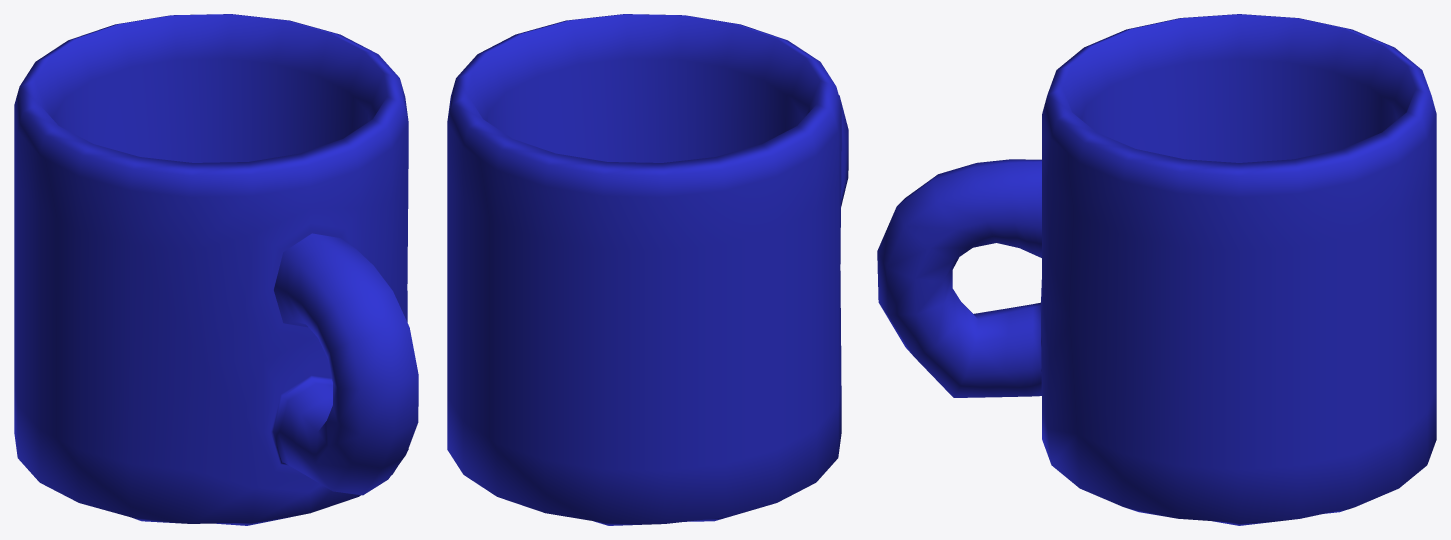
File: mug.obj
The picture shows the model from 3 angles, left to right: view 1: azimuth 30°, elevation 25°; view 2: azimuth 150°, elevation 25°; view 3: azimuth 270°, elevation 25°; orthographic projection.
Visible parts, largest first — view 1: pCylinder1; view 2: pCylinder1; view 3: pCylinder1.
Part boxes in pixels (x1,y1,x2,y2): pCylinder1: (14, 14, 418, 525); pCylinder1: (447, 14, 848, 525); pCylinder1: (877, 14, 1436, 525).
Size of the model in its own units: 3.81 by 4 by 5.39.
